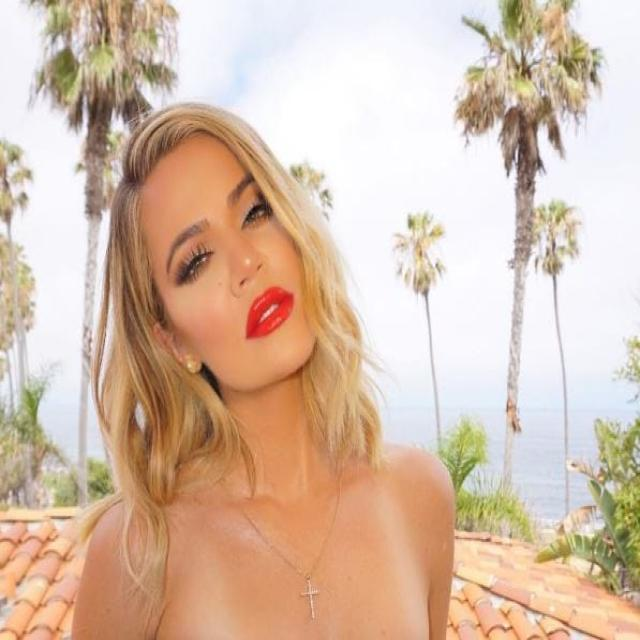mobile_phonerotation: (66, 98, 459, 639)
